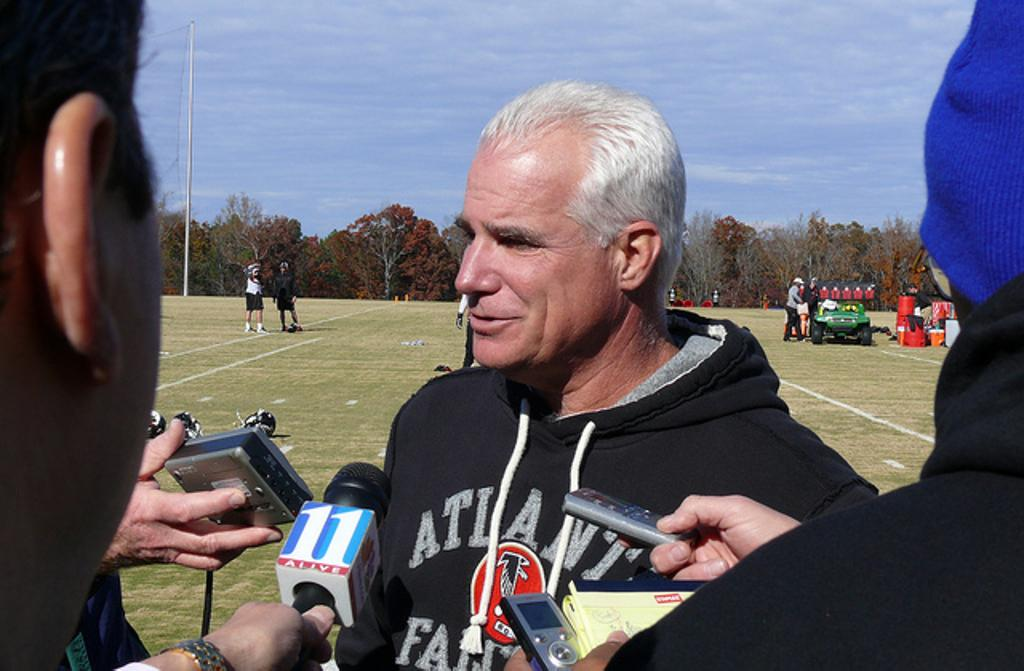face: (460, 142, 612, 362)
